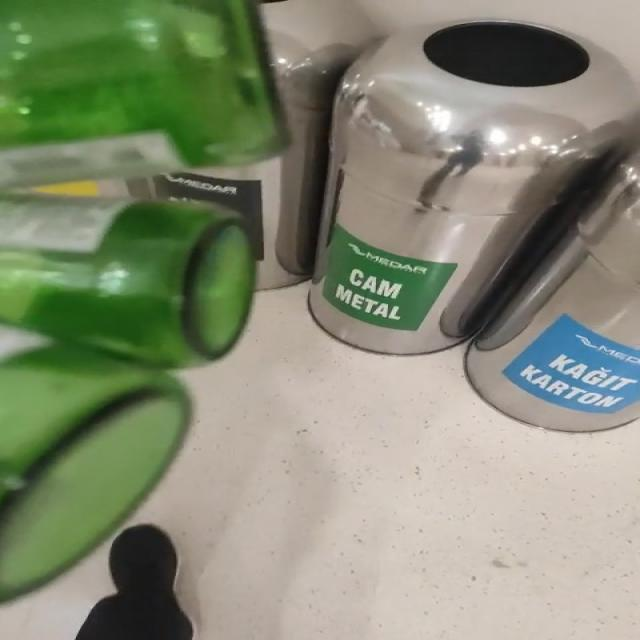Glass: (0, 0, 285, 601)
